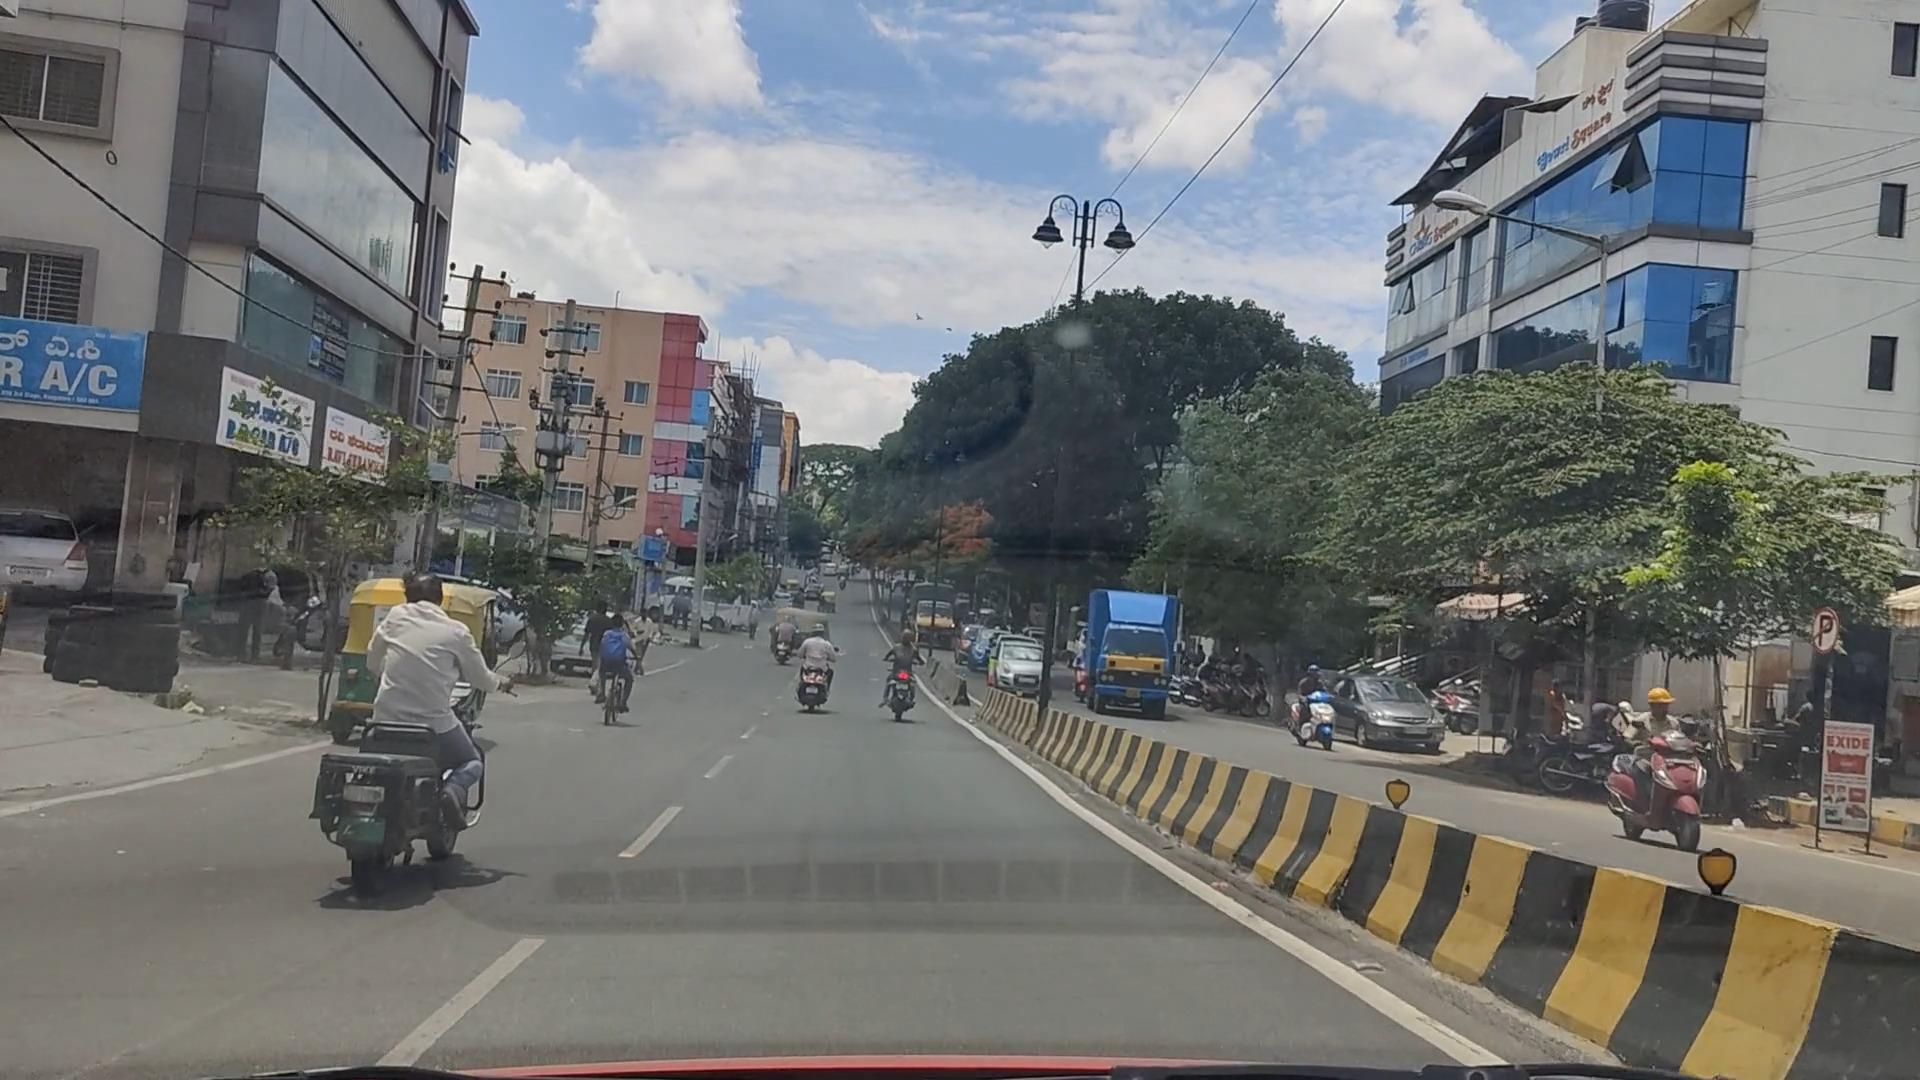LMV: (323, 533, 493, 940)
